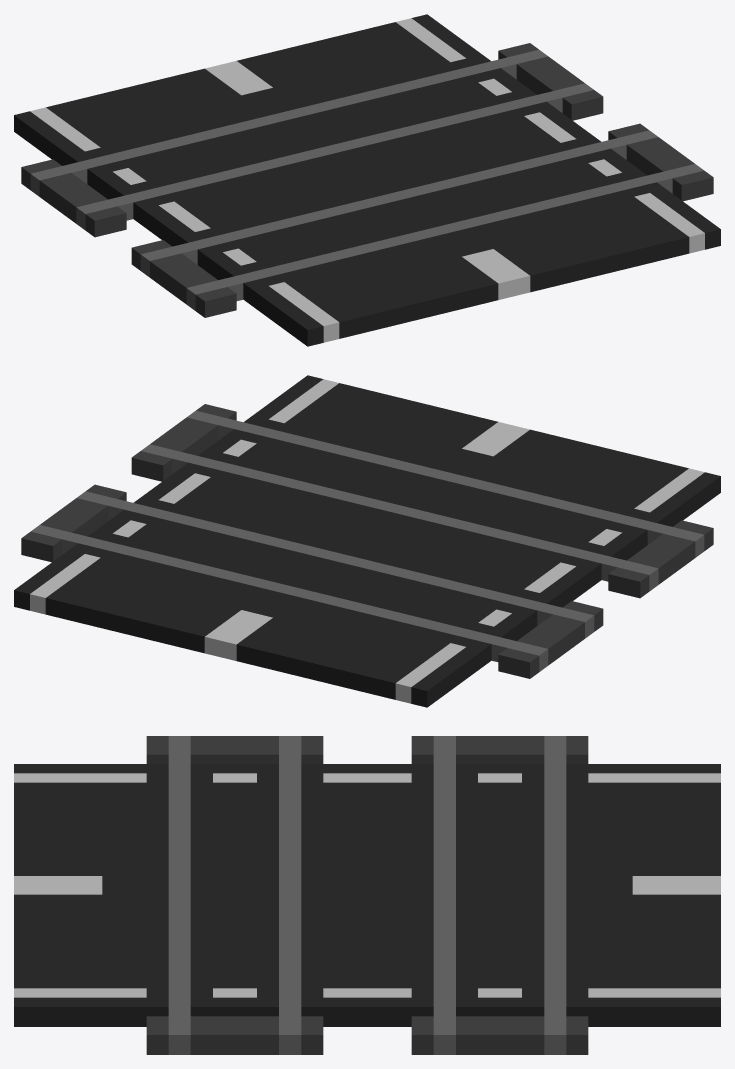
The model's file is track-road-intersection-double-1.gltf.
3 renders of one model, top to bottom at view 1: azimuth 30°, elevation 25°; view 2: azimuth 150°, elevation 25°; view 3: azimuth 270°, elevation 25°, orthographic. The views are drawn at different scales.
Parts seen in each view (by area): view 1: track-road-intersection-double-1_model; view 2: track-road-intersection-double-1_model; view 3: track-road-intersection-double-1_model.
Boxes of the visible parts, x1,y1,x2,y2 form: track-road-intersection-double-1_model: (14,14,720,346); track-road-intersection-double-1_model: (14,375,720,707); track-road-intersection-double-1_model: (14,736,720,1054).
Size of the model in its own units: 3.2 by 0.1 by 3.2.
1 material, 1 textured.
